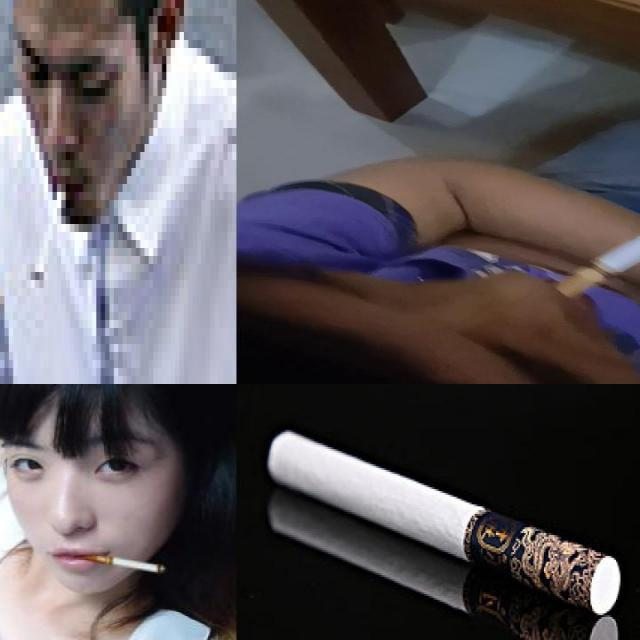smoke: (263, 428, 621, 614), (268, 486, 619, 638), (556, 188, 640, 298), (22, 168, 70, 288), (76, 552, 167, 574)
